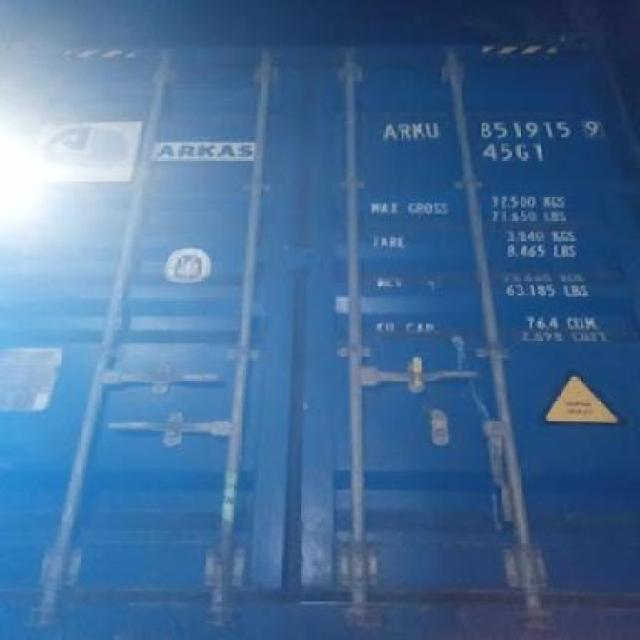ISO: (484, 140, 546, 161)
container_number: (380, 116, 596, 139)
